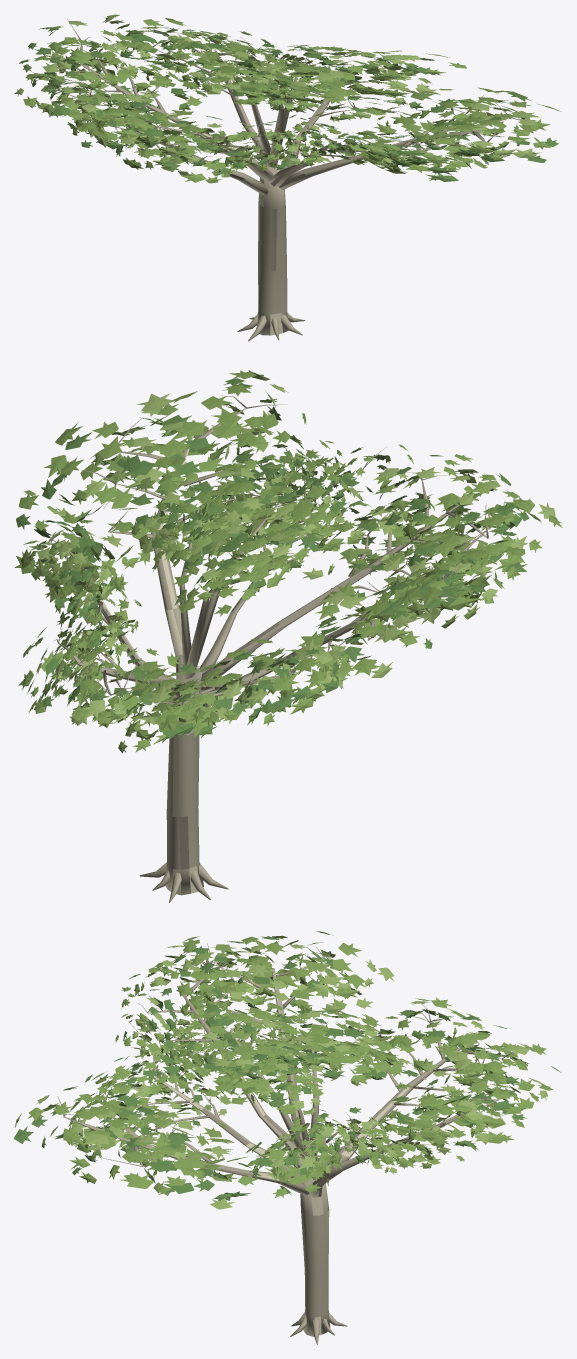
3 renders of one model, top to bottom at view 1: azimuth 30°, elevation 25°; view 2: azimuth 150°, elevation 25°; view 3: azimuth 270°, elevation 25°, orthographic. The views are drawn at different scales.
Parts seen in each view (by area): view 1: tree_plane_c_PlaneLeaf, tree_plane_c_PlaneBark, tree_plane_c_PlaneLeafDark, tree_plane_c_PlaneLeafLight, tree_plane_c_PlaneBarkBrown, tree_plane_c_PlaneBarkPale; view 2: tree_plane_c_PlaneLeaf, tree_plane_c_PlaneLeafDark, tree_plane_c_PlaneLeafLight, tree_plane_c_PlaneBark, tree_plane_c_PlaneBarkPale, tree_plane_c_PlaneBarkBrown; view 3: tree_plane_c_PlaneLeaf, tree_plane_c_PlaneLeafDark, tree_plane_c_PlaneLeafLight, tree_plane_c_PlaneBark, tree_plane_c_PlaneBarkPale, tree_plane_c_PlaneBarkBrown.
Part boxes in pixels (x1,y1,x2,y2): tree_plane_c_PlaneLeaf: [22, 14, 560, 183]; tree_plane_c_PlaneBark: [41, 19, 532, 341]; tree_plane_c_PlaneLeafDark: [19, 27, 558, 181]; tree_plane_c_PlaneLeafLight: [14, 15, 541, 177]; tree_plane_c_PlaneBarkBrown: [114, 89, 306, 270]; tree_plane_c_PlaneBarkPale: [83, 66, 479, 335]; tree_plane_c_PlaneLeaf: [14, 370, 562, 753]; tree_plane_c_PlaneLeafDark: [16, 378, 529, 738]; tree_plane_c_PlaneLeafLight: [22, 370, 555, 744]; tree_plane_c_PlaneBark: [50, 395, 516, 902]; tree_plane_c_PlaneBarkPale: [83, 435, 371, 895]; tree_plane_c_PlaneBarkBrown: [77, 506, 457, 869]; tree_plane_c_PlaneLeaf: [27, 935, 561, 1197]; tree_plane_c_PlaneLeafDark: [14, 936, 529, 1200]; tree_plane_c_PlaneLeafLight: [15, 931, 547, 1209]; tree_plane_c_PlaneBark: [57, 943, 532, 1344]; tree_plane_c_PlaneBarkPale: [117, 968, 461, 1336]; tree_plane_c_PlaneBarkBrown: [179, 968, 460, 1184].
Size of the model in its own units: 16.68 by 11.06 by 18.76.
